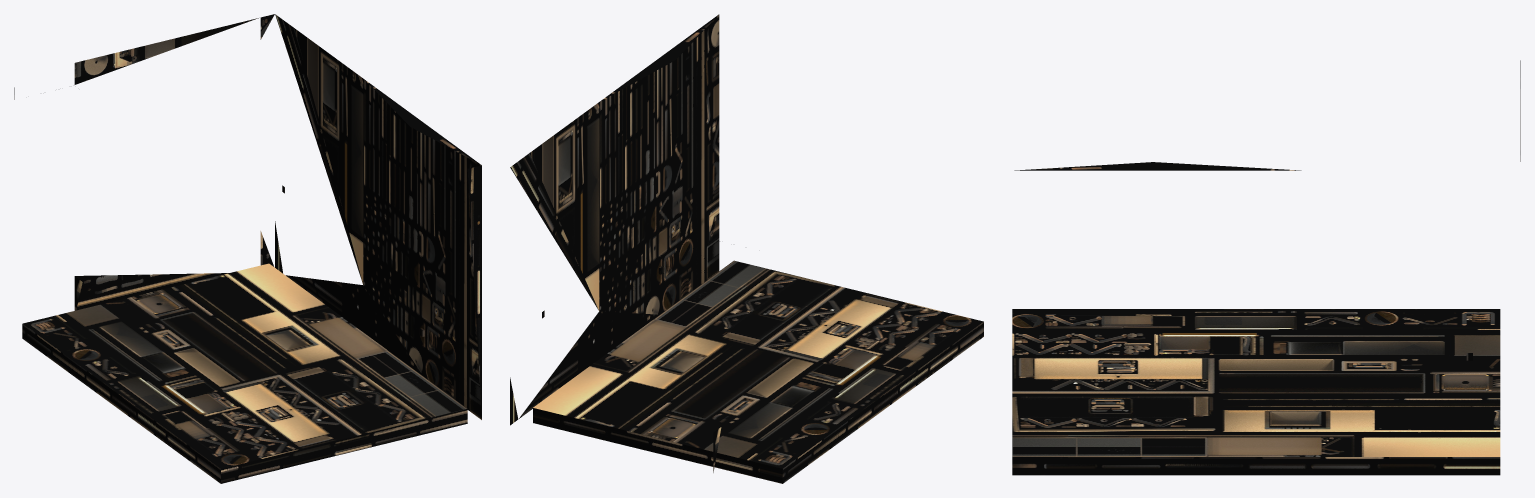
Rendered from simple_house_-_kitchen_4.obj.
3 views of the same model, side by side, from view 1: azimuth 30°, elevation 25°; view 2: azimuth 150°, elevation 25°; view 3: azimuth 270°, elevation 25° (orthographic). The views are drawn at different scales.
Bounding box in the file's own units: 3.64 × 3.4 × 5.
